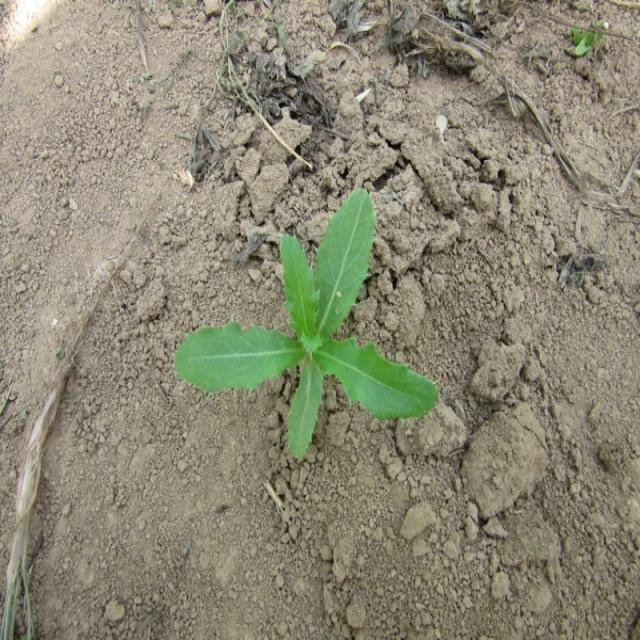cs: (170, 184, 442, 466)
